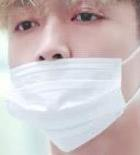mask_weared_incorrect: (2, 2, 140, 155)
